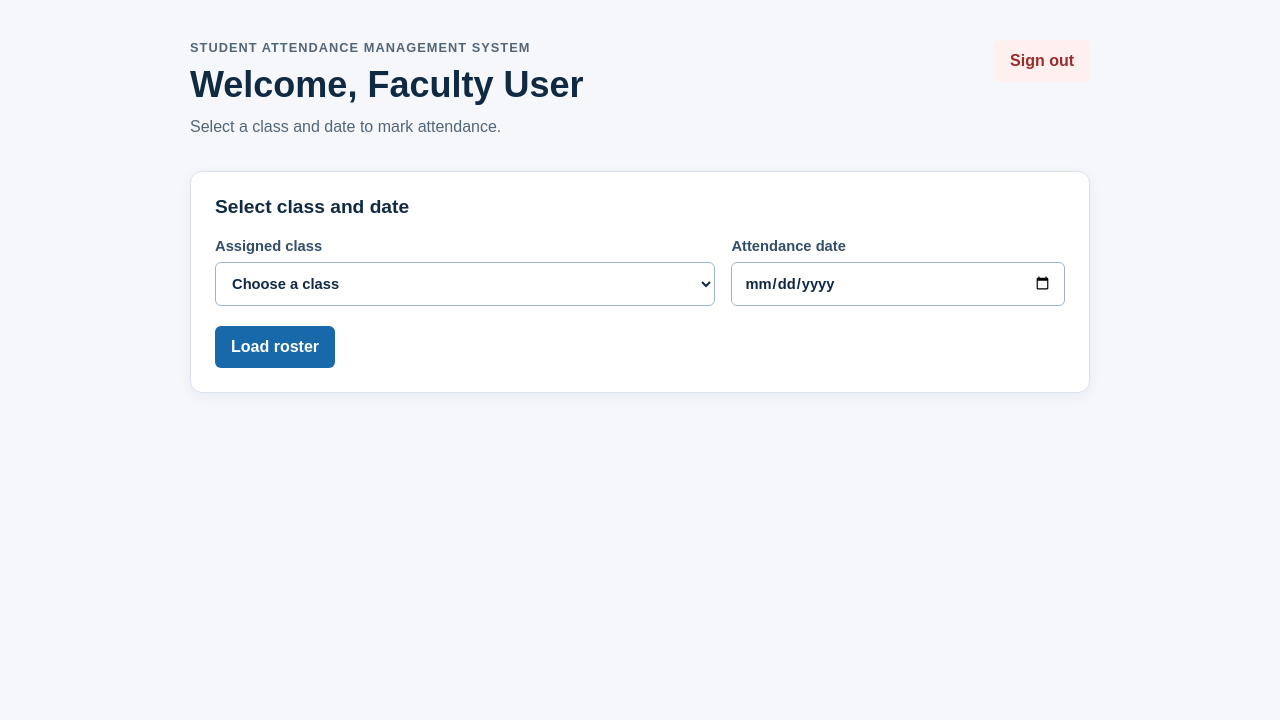
it: pre-fills an existing attendance record and submits its identifier when correcting it
The width and height of the screenshot is (1280, 720).
Select "CS301 — Database Systems · Section A · 2026-27" in the dropdown with id "assigned-class": (465, 284) [215,262,715,306]
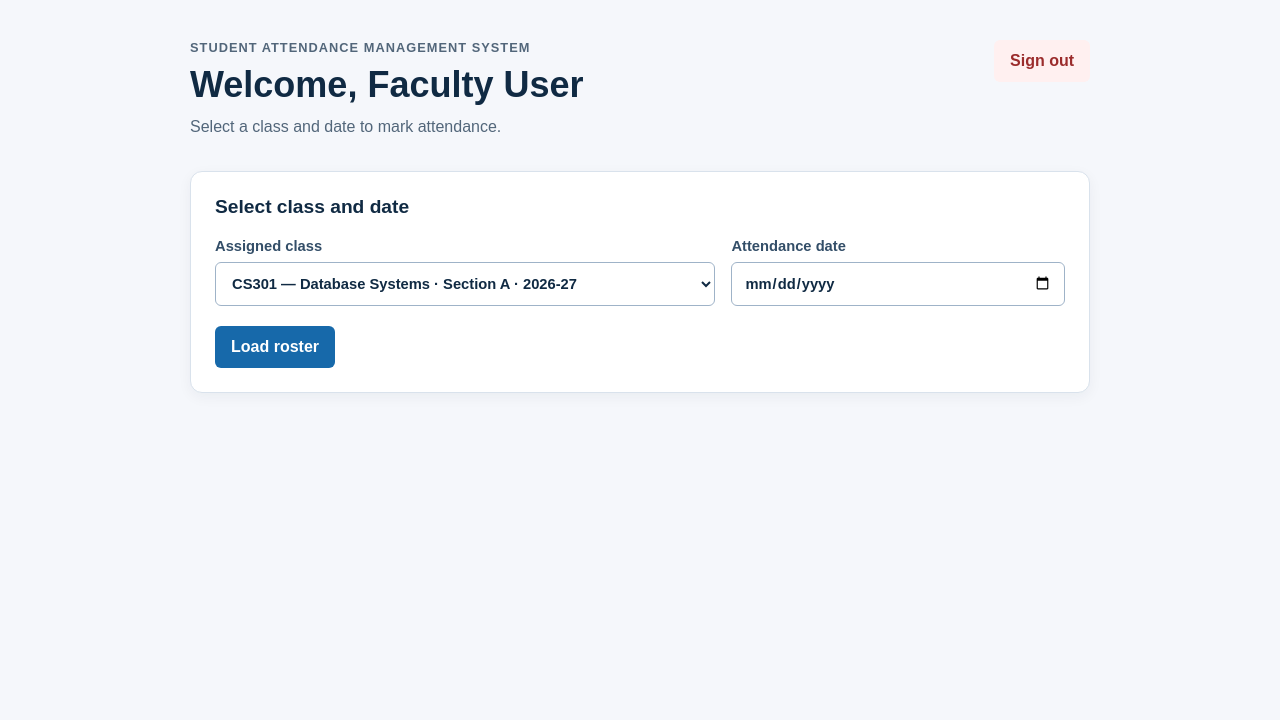
Select "CS301 — Database Systems · Section A · 2026-27" in the dropdown with id "assigned-class": (465, 284) [215,262,715,306]
In the date field with id "attendance-date": (898, 284) [731,262,1065,306], type "2026-10-23"
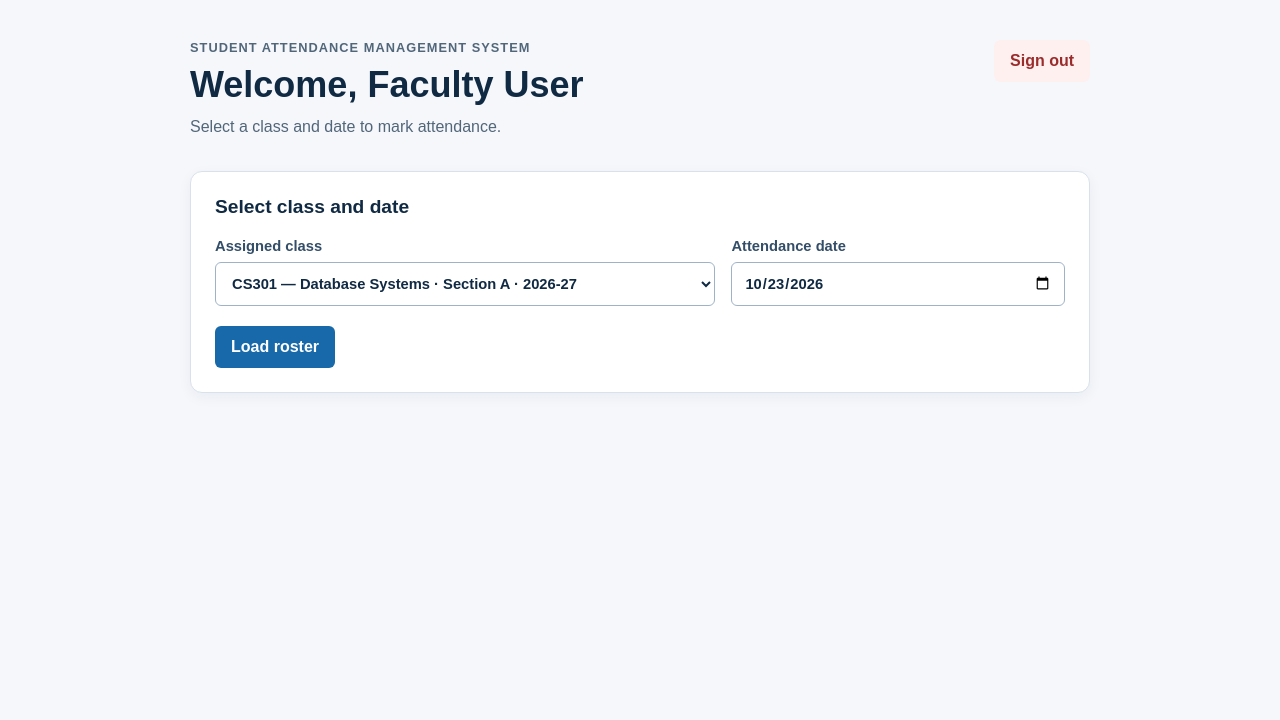
Submit the form, box [215,238,1065,368]
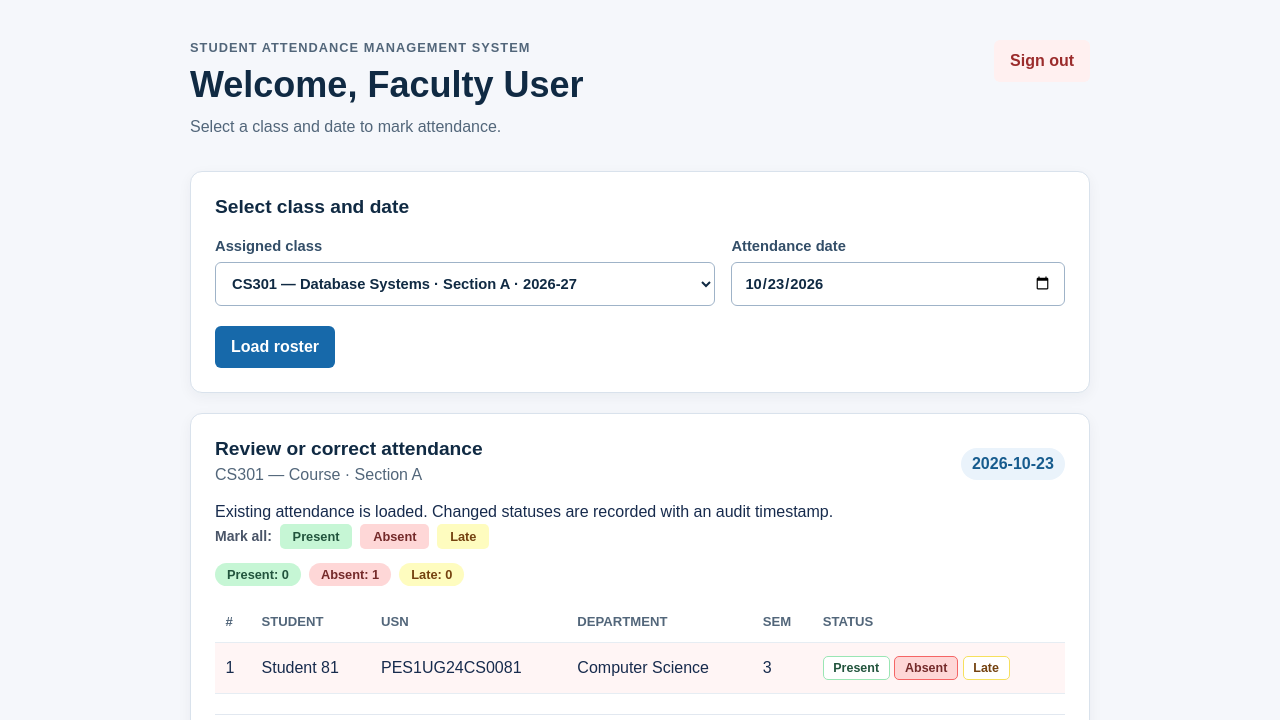
Check: the text "Review or correct attendance" is shown, box [215,438,483,460]
Check: the text "Existing attendance is loaded" is shown, box [215,503,833,520]
Click the radio button named "status-81": (986, 668) [963,656,1010,680]
(page scrolled)
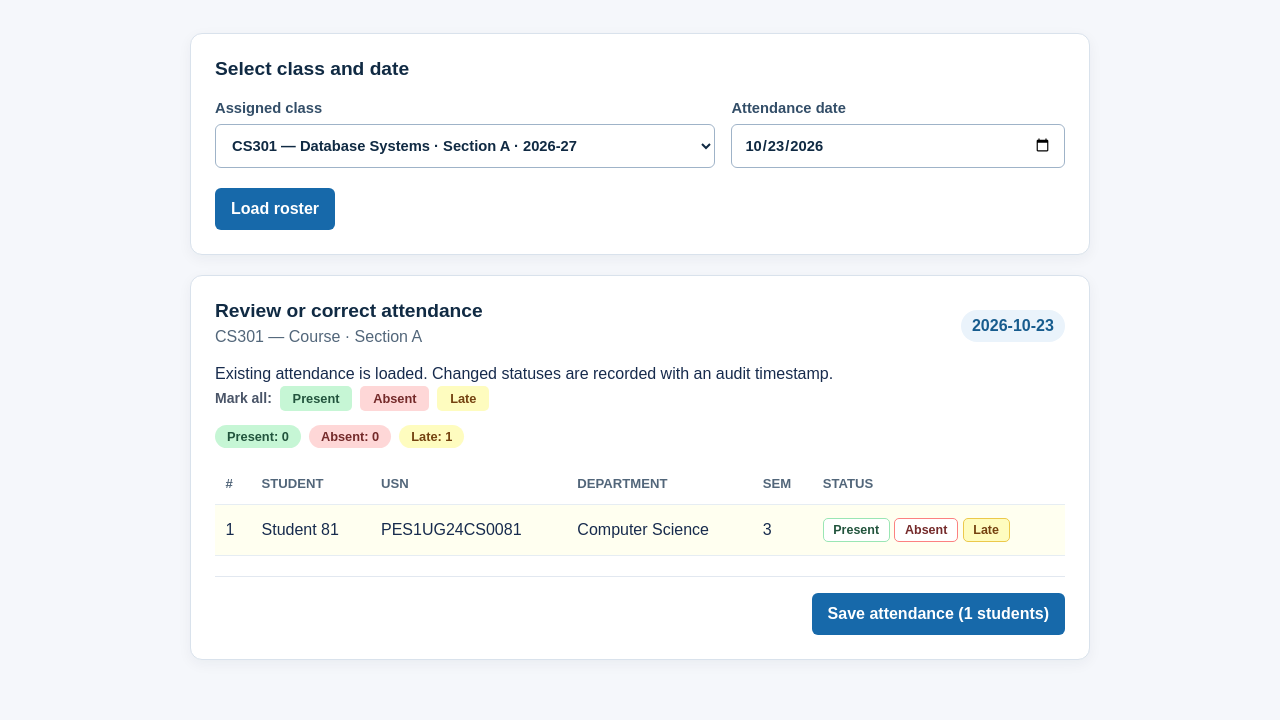
Submit the 2nd form, box [215,362,1065,635]
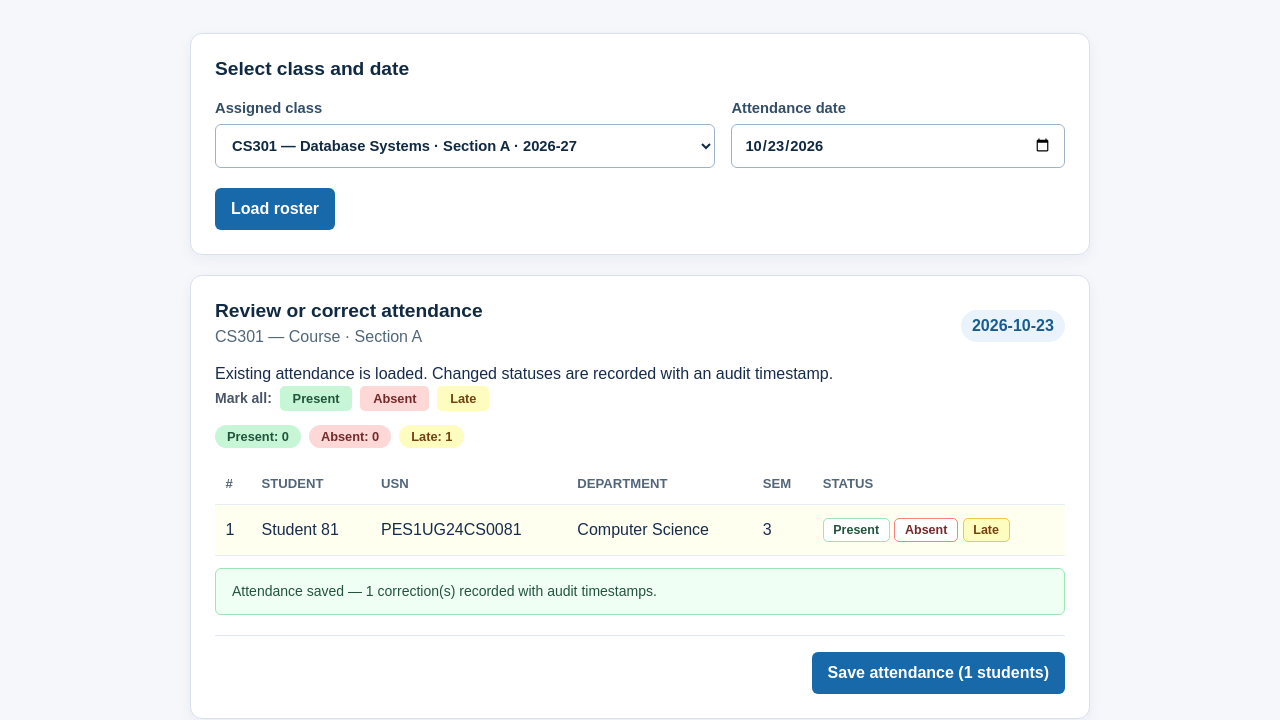
Check: the text "1 correction(s) recorded with audit timestamps" is shown, box [232,583,657,599]
